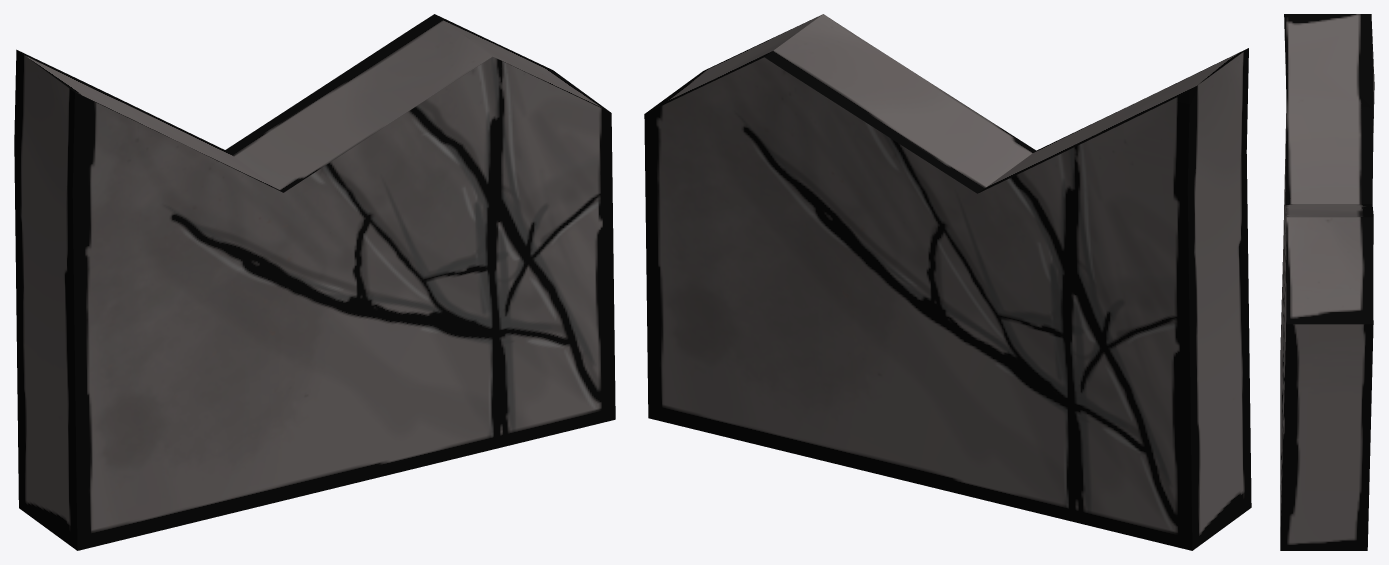
The model's file is tombstone4_gib1.fbx.
The picture shows the model from 3 angles, left to right: view 1: azimuth 30°, elevation 25°; view 2: azimuth 150°, elevation 25°; view 3: azimuth 270°, elevation 25°; orthographic projection. The views are drawn at different scales.
Parts seen in each view (by area): view 1: tombstone4_gib1; view 2: tombstone4_gib1; view 3: tombstone4_gib1.
Boxes of the visible parts, box(x1,y1,x2,y2) form: tombstone4_gib1: box(14, 14, 615, 550); tombstone4_gib1: box(644, 14, 1251, 550); tombstone4_gib1: box(1280, 14, 1374, 550).
Bounding box in the file's own units: 202 × 164 × 41.14.
